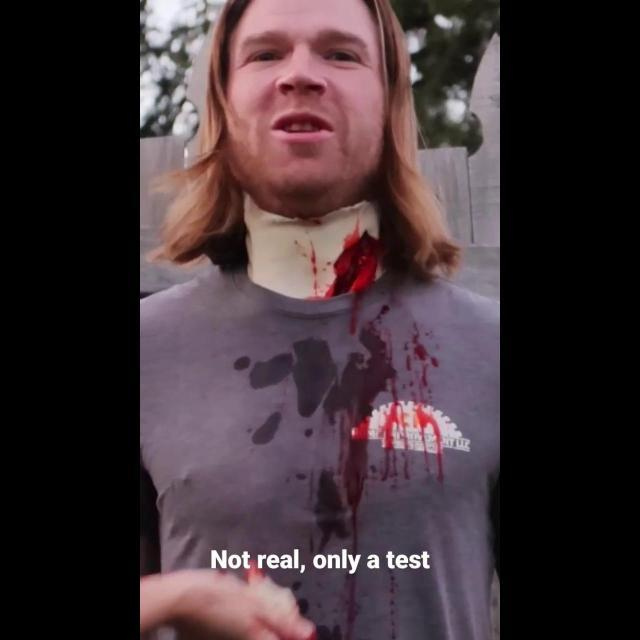blood: (293, 305, 470, 640), (306, 214, 384, 332)
